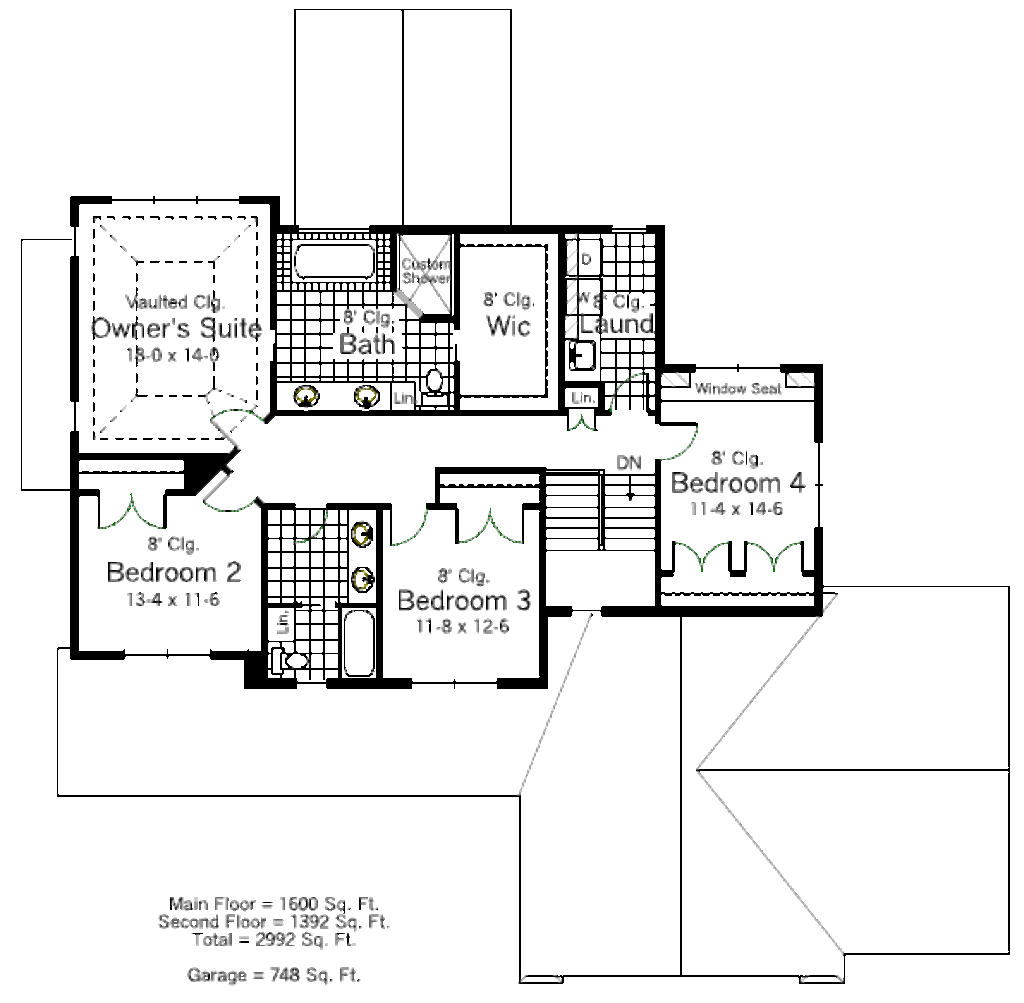door: (447, 503, 529, 552), (87, 489, 170, 534), (203, 401, 272, 453), (742, 529, 806, 583), (199, 466, 259, 522), (664, 534, 737, 576), (647, 417, 708, 466), (386, 503, 430, 555), (562, 406, 598, 434)
large_sink: (265, 637, 316, 677)
sink: (565, 333, 598, 376)
small_sink: (282, 375, 421, 419), (347, 507, 380, 598)
stairs: (531, 465, 638, 561)
tub: (273, 232, 396, 295), (343, 605, 376, 685)
window: (104, 184, 238, 215), (809, 429, 833, 533), (118, 646, 209, 669), (412, 671, 497, 694), (697, 359, 783, 376)
